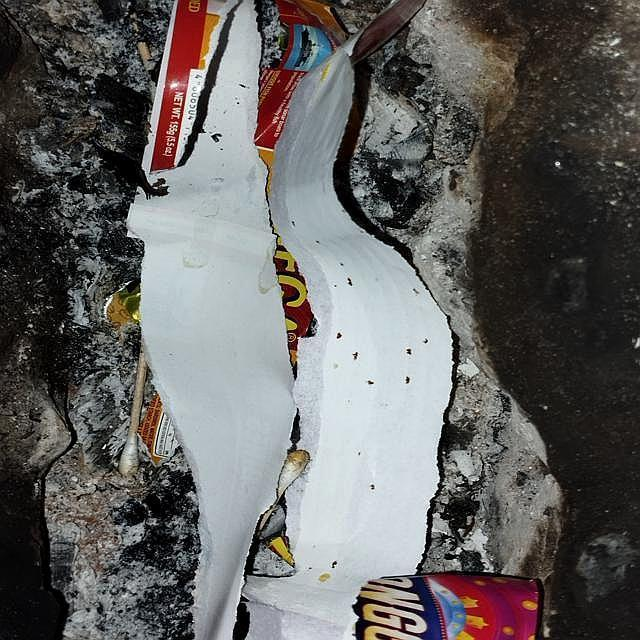Biodegradable: (145, 1, 459, 640)
